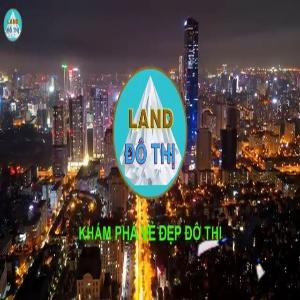drone: (204, 202, 287, 285)
